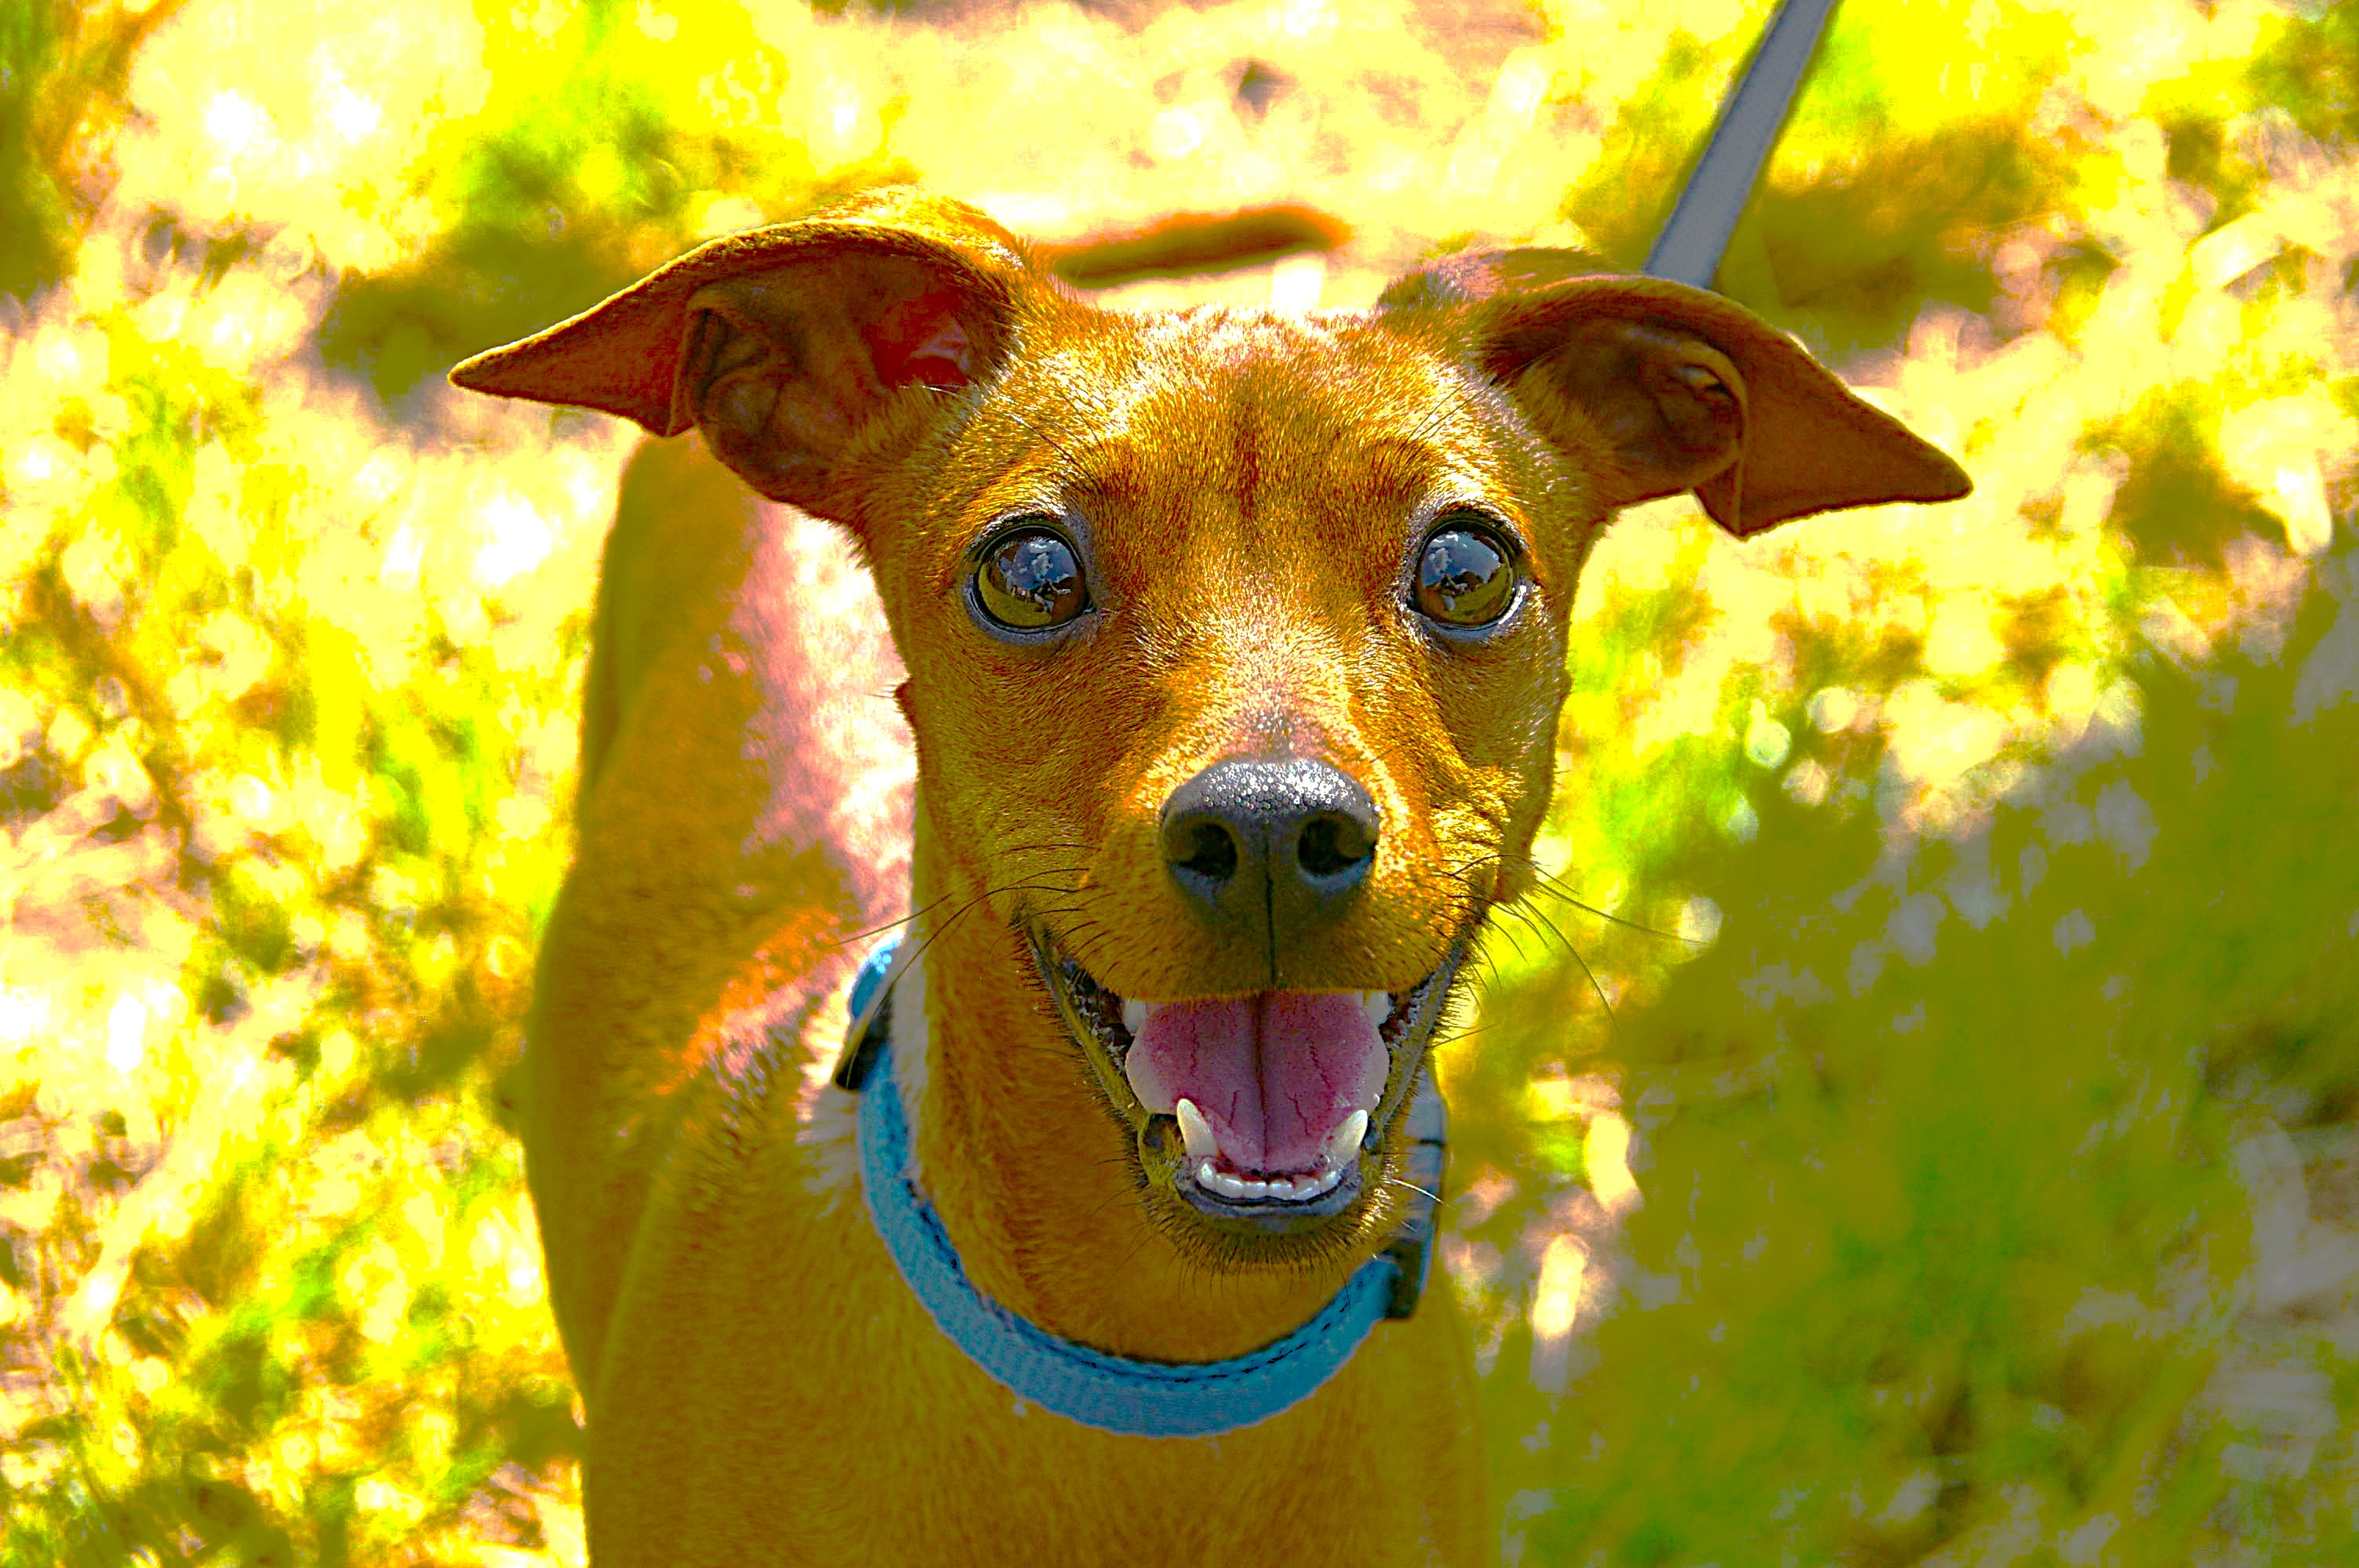dog: (446, 191, 1958, 1568)
